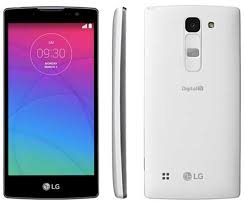lg: (1, 1, 103, 201), (141, 1, 243, 201)
